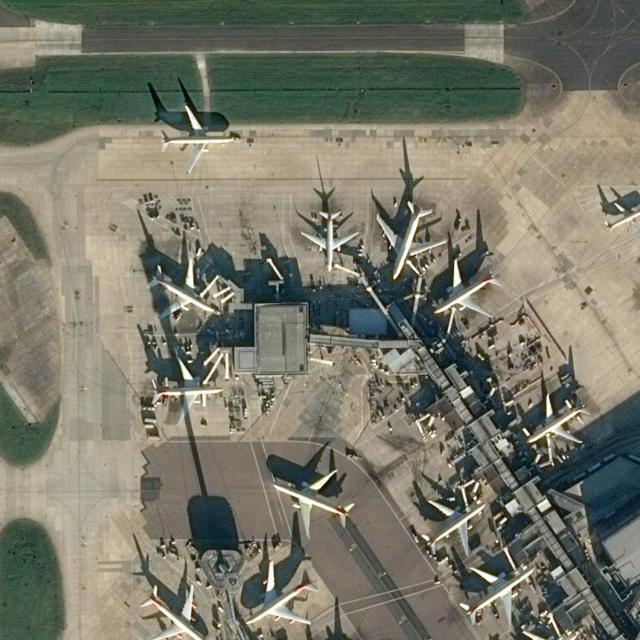Aircraft: (270, 466, 356, 540), (374, 197, 448, 280), (158, 103, 238, 173), (457, 563, 537, 629), (149, 354, 224, 424), (243, 560, 319, 626), (144, 255, 220, 319), (137, 581, 213, 640), (432, 258, 502, 319), (418, 496, 488, 557), (299, 207, 357, 271), (524, 390, 590, 446), (602, 200, 640, 236)
